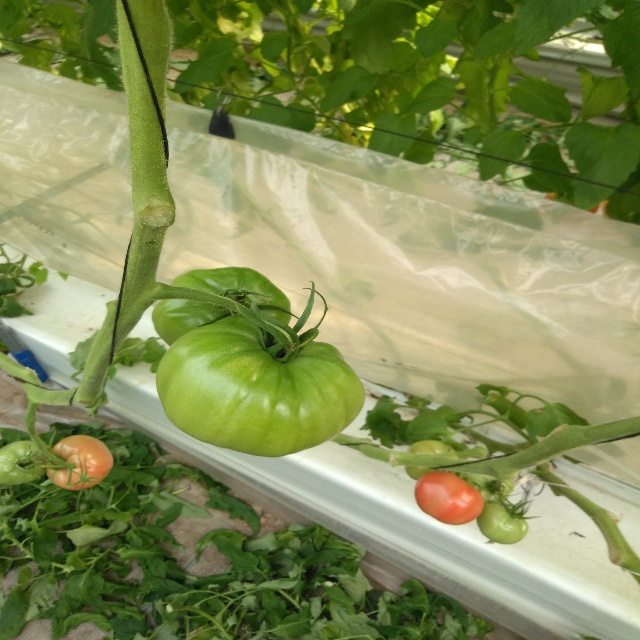b_green: (156, 316, 366, 458), (152, 266, 292, 347), (0, 440, 52, 485), (476, 502, 527, 545), (406, 440, 459, 480), (458, 472, 511, 504)
b_half_ripened: (44, 435, 113, 491), (414, 472, 483, 525)
